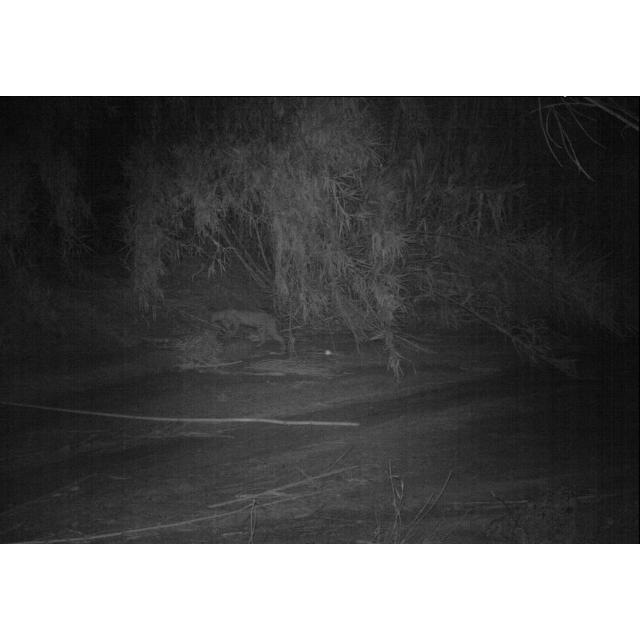animals: (210, 304, 288, 356)
